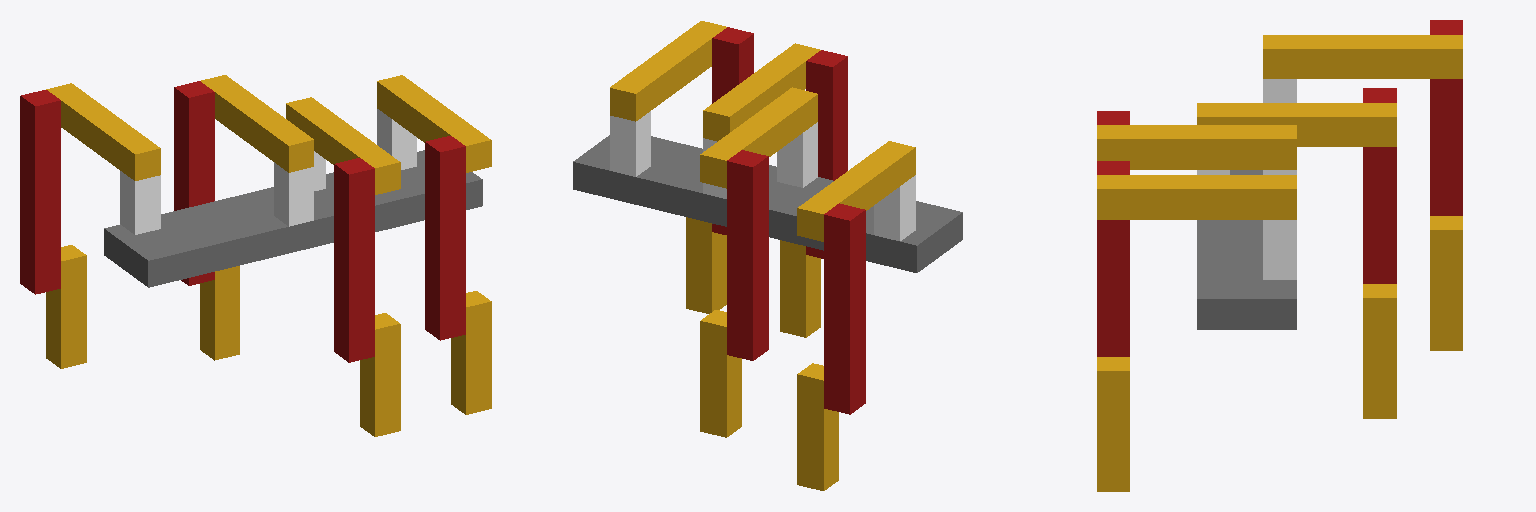
URDF robot description (v0):
<?xml version="1.0" encoding="utf-8"?>
<!-- =================================================================================== -->
<!-- |    This document was autogenerated by xacro from ../robots/v0variants/xacros/v0_4l_15.xacro | -->
<!-- |    EDITING THIS FILE BY HAND IS NOT RECOMMENDED                                 | -->
<!-- =================================================================================== -->
<robot name="v0">
  <material name="grey">
    <color rgba="0.5 0.5 0.5 1"/>
  </material>
  <material name="white">
    <color rgba="1 1 1 1"/>
  </material>
  <material name="yellow">
    <color rgba="0.91 0.7 0.14 1"/>
  </material>
  <material name="red">
    <color rgba="0.71 0.14 0.14 1"/>
  </material>
  <link name="body">
    <visual>
      <geometry>
        <box size="1.3 0.3 0.1"/>
      </geometry>
      <material name="grey"/>
      <origin rpy="0 0 0" xyz="0 0 0.7"/>
    </visual>
    <collision>
      <geometry>
        <box size="1.3 0.3 0.1"/>
      </geometry>
      <origin rpy="0 0 0" xyz="0 0 0.7"/>
    </collision>
    <inertial>
      <mass value="99.84"/>
      <inertia ixx="0.832" ixy="0.0" ixz="0.0" iyy="14.144" iyz="0.0" izz="14.8096"/>
    </inertial>
  </link>
  <link name="l1_segment_1">
    <visual>
      <geometry>
        <box size="0.1 0.1 0.2"/>
      </geometry>
      <material name="white"/>
      <origin rpy="0 0 0" xyz="0 0 0.1"/>
    </visual>
    <collision>
      <geometry>
        <box size="0.1 0.1 0.2"/>
      </geometry>
      <origin rpy="0 0 0" xyz="0 0 0.1"/>
    </collision>
    <inertial>
      <mass value="5.12"/>
      <inertia ixx="0.0213333333333" ixy="0.0" ixz="0.0" iyy="0.0213333333333" iyz="0.0" izz="0.00853333333333"/>
    </inertial>
  </link>
  <joint name="l1_base_to_joint_1" type="fixed">
    <parent link="body"/>
    <child link="l1_segment_1"/>
    <origin rpy="0 0 0" xyz="-0.5362677031886501 0.1 0.75"/>
  </joint>
  <link name="l1_segment_2_HIP">
    <visual>
      <geometry>
        <box size="0.1 0.6 0.1"/>
      </geometry>
      <material name="yellow"/>
      <origin rpy="0 0 0" xyz="0 0.25 0"/>
    </visual>
    <collision>
      <geometry>
        <box size="0.1 0.6 0.1"/>
      </geometry>
      <origin rpy="0 0 0" xyz="0 0.25 0"/>
    </collision>
    <inertial>
      <mass value="15.36"/>
      <inertia ixx="0.4736" ixy="0.0" ixz="0.0" iyy="0.0256" iyz="0.0" izz="0.4736"/>
    </inertial>
  </link>
  <joint name="l1_joint_1_to_2" type="revolute">
    <parent link="l1_segment_1"/>
    <child link="l1_segment_2_HIP"/>
    <origin rpy="0 0 0" xyz="0 0 0.25"/>
    <axis xyz="0.0 0.0 1.0"/>
    <limit effort="2048" lower="-1.2" upper="1.2" velocity="20"/>
  </joint>
  <link name="l1_segment_3_THIGH">
    <visual>
      <geometry>
        <box size="0.1 0.1 0.7"/>
      </geometry>
      <material name="red"/>
      <origin rpy="0 0 0" xyz="0 0 -0.3"/>
    </visual>
    <collision>
      <geometry>
        <box size="0.1 0.1 0.7"/>
      </geometry>
      <origin rpy="0 0 0" xyz="0 0 -0.3"/>
    </collision>
    <inertial>
      <mass value="17.92"/>
      <inertia ixx="0.746666666667" ixy="0.0" ixz="0.0" iyy="0.746666666667" iyz="0.0" izz="0.0298666666667"/>
    </inertial>
  </link>
  <joint name="l1_joint_2_to_3" type="revolute">
    <parent link="l1_segment_2_HIP"/>
    <child link="l1_segment_3_THIGH"/>
    <origin rpy="0 0 0" xyz="-0.1 0.5 0"/>
    <axis xyz="1.0 0.0 0.0"/>
    <limit effort="2048" lower="-0.2" upper="0.75" velocity="20"/>
  </joint>
  <link name="l1_segment_4_FOOT">
    <visual>
      <geometry>
        <box size="0.1 0.1 0.4"/>
      </geometry>
      <material name="yellow"/>
      <origin rpy="0 0 0" xyz="0 0 -0.2"/>
    </visual>
    <collision>
      <geometry>
        <box size="0.1 0.1 0.4"/>
      </geometry>
      <origin rpy="0 0 0" xyz="0 0 -0.2"/>
    </collision>
    <inertial>
      <mass value="10.24"/>
      <inertia ixx="0.145066666667" ixy="0.0" ixz="0.0" iyy="0.145066666667" iyz="0.0" izz="0.0170666666667"/>
    </inertial>
  </link>
  <joint name="l1_joint_3_to_4_FOOT" type="revolute">
    <parent link="l1_segment_3_THIGH"/>
    <child link="l1_segment_4_FOOT"/>
    <origin rpy="0 0 0" xyz="0.1 0 -0.55"/>
    <axis xyz="1.0 0.0 0.0"/>
    <limit effort="2048" lower="-0.2" upper="0.5" velocity="20"/>
  </joint>
  <link name="r2_segment_1">
    <visual>
      <geometry>
        <box size="0.1 0.1 0.2"/>
      </geometry>
      <material name="white"/>
      <origin rpy="0 0 0" xyz="0 0 0.1"/>
    </visual>
    <collision>
      <geometry>
        <box size="0.1 0.1 0.2"/>
      </geometry>
      <origin rpy="0 0 0" xyz="0 0 0.1"/>
    </collision>
    <inertial>
      <mass value="5.12"/>
      <inertia ixx="0.0213333333333" ixy="0.0" ixz="0.0" iyy="0.0213333333333" iyz="0.0" izz="0.00853333333333"/>
    </inertial>
  </link>
  <joint name="r2_base_to_joint_1" type="fixed">
    <parent link="body"/>
    <child link="r2_segment_1"/>
    <origin rpy="0 0 0" xyz="0.107769492349686 0.1 0.75"/>
  </joint>
  <link name="r2_segment_2_HIP">
    <visual>
      <geometry>
        <box size="0.1 0.6 0.1"/>
      </geometry>
      <material name="yellow"/>
      <origin rpy="0 0 0" xyz="0 -0.25 0"/>
    </visual>
    <collision>
      <geometry>
        <box size="0.1 0.6 0.1"/>
      </geometry>
      <origin rpy="0 0 0" xyz="0 -0.25 0"/>
    </collision>
    <inertial>
      <mass value="15.36"/>
      <inertia ixx="0.4736" ixy="0.0" ixz="0.0" iyy="0.0256" iyz="0.0" izz="0.4736"/>
    </inertial>
  </link>
  <joint name="r2_joint_1_to_2" type="revolute">
    <parent link="r2_segment_1"/>
    <child link="r2_segment_2_HIP"/>
    <origin rpy="0 0 0" xyz="0 0 0.25"/>
    <axis xyz="0.0 0.0 1.0"/>
    <limit effort="2048" lower="-1.2" upper="1.2" velocity="20"/>
  </joint>
  <link name="r2_segment_3_THIGH">
    <visual>
      <geometry>
        <box size="0.1 0.1 0.7"/>
      </geometry>
      <material name="red"/>
      <origin rpy="0 0 0" xyz="0 0 -0.3"/>
    </visual>
    <collision>
      <geometry>
        <box size="0.1 0.1 0.7"/>
      </geometry>
      <origin rpy="0 0 0" xyz="0 0 -0.3"/>
    </collision>
    <inertial>
      <mass value="17.92"/>
      <inertia ixx="0.746666666667" ixy="0.0" ixz="0.0" iyy="0.746666666667" iyz="0.0" izz="0.0298666666667"/>
    </inertial>
  </link>
  <joint name="r2_joint_2_to_3" type="revolute">
    <parent link="r2_segment_2_HIP"/>
    <child link="r2_segment_3_THIGH"/>
    <origin rpy="0 0 0" xyz="-0.1 -0.5 0"/>
    <axis xyz="1.0 0.0 0.0"/>
    <limit effort="2048" lower="-0.75" upper="0.2" velocity="20"/>
  </joint>
  <link name="r2_segment_4_FOOT">
    <visual>
      <geometry>
        <box size="0.1 0.1 0.4"/>
      </geometry>
      <material name="yellow"/>
      <origin rpy="0 0 0" xyz="0 0 -0.2"/>
    </visual>
    <collision>
      <geometry>
        <box size="0.1 0.1 0.4"/>
      </geometry>
      <origin rpy="0 0 0" xyz="0 0 -0.2"/>
    </collision>
    <inertial>
      <mass value="10.24"/>
      <inertia ixx="0.145066666667" ixy="0.0" ixz="0.0" iyy="0.145066666667" iyz="0.0" izz="0.0170666666667"/>
    </inertial>
  </link>
  <joint name="r2_joint_3_to_4_FOOT" type="revolute">
    <parent link="r2_segment_3_THIGH"/>
    <child link="r2_segment_4_FOOT"/>
    <origin rpy="0 0 0" xyz="0.1 0 -0.55"/>
    <axis xyz="1.0 0.0 0.0"/>
    <limit effort="2048" lower="-0.5" upper="0.2" velocity="20"/>
  </joint>
  <link name="l3_segment_1">
    <visual>
      <geometry>
        <box size="0.1 0.1 0.2"/>
      </geometry>
      <material name="white"/>
      <origin rpy="0 0 0" xyz="0 0 0.1"/>
    </visual>
    <collision>
      <geometry>
        <box size="0.1 0.1 0.2"/>
      </geometry>
      <origin rpy="0 0 0" xyz="0 0 0.1"/>
    </collision>
    <inertial>
      <mass value="5.12"/>
      <inertia ixx="0.0213333333333" ixy="0.0" ixz="0.0" iyy="0.0213333333333" iyz="0.0" izz="0.00853333333333"/>
    </inertial>
  </link>
  <joint name="l3_base_to_joint_1" type="fixed">
    <parent link="body"/>
    <child link="l3_segment_1"/>
    <origin rpy="0 0 0" xyz="-0.05401374932247005 -0.1 0.75"/>
  </joint>
  <link name="l3_segment_2_HIP">
    <visual>
      <geometry>
        <box size="0.1 0.6 0.1"/>
      </geometry>
      <material name="yellow"/>
      <origin rpy="0 0 0" xyz="0 0.25 0"/>
    </visual>
    <collision>
      <geometry>
        <box size="0.1 0.6 0.1"/>
      </geometry>
      <origin rpy="0 0 0" xyz="0 0.25 0"/>
    </collision>
    <inertial>
      <mass value="15.36"/>
      <inertia ixx="0.4736" ixy="0.0" ixz="0.0" iyy="0.0256" iyz="0.0" izz="0.4736"/>
    </inertial>
  </link>
  <joint name="l3_joint_1_to_2" type="revolute">
    <parent link="l3_segment_1"/>
    <child link="l3_segment_2_HIP"/>
    <origin rpy="0 0 0" xyz="0 0 0.25"/>
    <axis xyz="0.0 0.0 1.0"/>
    <limit effort="2048" lower="-1.2" upper="1.2" velocity="20"/>
  </joint>
  <link name="l3_segment_3_THIGH">
    <visual>
      <geometry>
        <box size="0.1 0.1 0.7"/>
      </geometry>
      <material name="red"/>
      <origin rpy="0 0 0" xyz="0 0 -0.3"/>
    </visual>
    <collision>
      <geometry>
        <box size="0.1 0.1 0.7"/>
      </geometry>
      <origin rpy="0 0 0" xyz="0 0 -0.3"/>
    </collision>
    <inertial>
      <mass value="17.92"/>
      <inertia ixx="0.746666666667" ixy="0.0" ixz="0.0" iyy="0.746666666667" iyz="0.0" izz="0.0298666666667"/>
    </inertial>
  </link>
  <joint name="l3_joint_2_to_3" type="revolute">
    <parent link="l3_segment_2_HIP"/>
    <child link="l3_segment_3_THIGH"/>
    <origin rpy="0 0 0" xyz="-0.1 0.5 0"/>
    <axis xyz="1.0 0.0 0.0"/>
    <limit effort="2048" lower="-0.2" upper="0.75" velocity="20"/>
  </joint>
  <link name="l3_segment_4_FOOT">
    <visual>
      <geometry>
        <box size="0.1 0.1 0.4"/>
      </geometry>
      <material name="yellow"/>
      <origin rpy="0 0 0" xyz="0 0 -0.2"/>
    </visual>
    <collision>
      <geometry>
        <box size="0.1 0.1 0.4"/>
      </geometry>
      <origin rpy="0 0 0" xyz="0 0 -0.2"/>
    </collision>
    <inertial>
      <mass value="10.24"/>
      <inertia ixx="0.145066666667" ixy="0.0" ixz="0.0" iyy="0.145066666667" iyz="0.0" izz="0.0170666666667"/>
    </inertial>
  </link>
  <joint name="l3_joint_3_to_4_FOOT" type="revolute">
    <parent link="l3_segment_3_THIGH"/>
    <child link="l3_segment_4_FOOT"/>
    <origin rpy="0 0 0" xyz="0.1 0 -0.55"/>
    <axis xyz="1.0 0.0 0.0"/>
    <limit effort="2048" lower="-0.2" upper="0.5" velocity="20"/>
  </joint>
  <link name="r4_segment_1">
    <visual>
      <geometry>
        <box size="0.1 0.1 0.2"/>
      </geometry>
      <material name="white"/>
      <origin rpy="0 0 0" xyz="0 0 0.1"/>
    </visual>
    <collision>
      <geometry>
        <box size="0.1 0.1 0.2"/>
      </geometry>
      <origin rpy="0 0 0" xyz="0 0 0.1"/>
    </collision>
    <inertial>
      <mass value="5.12"/>
      <inertia ixx="0.0213333333333" ixy="0.0" ixz="0.0" iyy="0.0213333333333" iyz="0.0" izz="0.00853333333333"/>
    </inertial>
  </link>
  <joint name="r4_base_to_joint_1" type="fixed">
    <parent link="body"/>
    <child link="r4_segment_1"/>
    <origin rpy="0 0 0" xyz="0.4618256658895 0.1 0.75"/>
  </joint>
  <link name="r4_segment_2_HIP">
    <visual>
      <geometry>
        <box size="0.1 0.6 0.1"/>
      </geometry>
      <material name="yellow"/>
      <origin rpy="0 0 0" xyz="0 -0.25 0"/>
    </visual>
    <collision>
      <geometry>
        <box size="0.1 0.6 0.1"/>
      </geometry>
      <origin rpy="0 0 0" xyz="0 -0.25 0"/>
    </collision>
    <inertial>
      <mass value="15.36"/>
      <inertia ixx="0.4736" ixy="0.0" ixz="0.0" iyy="0.0256" iyz="0.0" izz="0.4736"/>
    </inertial>
  </link>
  <joint name="r4_joint_1_to_2" type="revolute">
    <parent link="r4_segment_1"/>
    <child link="r4_segment_2_HIP"/>
    <origin rpy="0 0 0" xyz="0 0 0.25"/>
    <axis xyz="0.0 0.0 1.0"/>
    <limit effort="2048" lower="-1.2" upper="1.2" velocity="20"/>
  </joint>
  <link name="r4_segment_3_THIGH">
    <visual>
      <geometry>
        <box size="0.1 0.1 0.7"/>
      </geometry>
      <material name="red"/>
      <origin rpy="0 0 0" xyz="0 0 -0.3"/>
    </visual>
    <collision>
      <geometry>
        <box size="0.1 0.1 0.7"/>
      </geometry>
      <origin rpy="0 0 0" xyz="0 0 -0.3"/>
    </collision>
    <inertial>
      <mass value="17.92"/>
      <inertia ixx="0.746666666667" ixy="0.0" ixz="0.0" iyy="0.746666666667" iyz="0.0" izz="0.0298666666667"/>
    </inertial>
  </link>
  <joint name="r4_joint_2_to_3" type="revolute">
    <parent link="r4_segment_2_HIP"/>
    <child link="r4_segment_3_THIGH"/>
    <origin rpy="0 0 0" xyz="-0.1 -0.5 0"/>
    <axis xyz="1.0 0.0 0.0"/>
    <limit effort="2048" lower="-0.75" upper="0.2" velocity="20"/>
  </joint>
  <link name="r4_segment_4_FOOT">
    <visual>
      <geometry>
        <box size="0.1 0.1 0.4"/>
      </geometry>
      <material name="yellow"/>
      <origin rpy="0 0 0" xyz="0 0 -0.2"/>
    </visual>
    <collision>
      <geometry>
        <box size="0.1 0.1 0.4"/>
      </geometry>
      <origin rpy="0 0 0" xyz="0 0 -0.2"/>
    </collision>
    <inertial>
      <mass value="10.24"/>
      <inertia ixx="0.145066666667" ixy="0.0" ixz="0.0" iyy="0.145066666667" iyz="0.0" izz="0.0170666666667"/>
    </inertial>
  </link>
  <joint name="r4_joint_3_to_4_FOOT" type="revolute">
    <parent link="r4_segment_3_THIGH"/>
    <child link="r4_segment_4_FOOT"/>
    <origin rpy="0 0 0" xyz="0.1 0 -0.55"/>
    <axis xyz="1.0 0.0 0.0"/>
    <limit effort="2048" lower="-0.5" upper="0.2" velocity="20"/>
  </joint>
</robot>

--- Facts derived from the render (not from the file) ---
3 views of the same robot in one strip: view 1: azimuth 30°, elevation 25°; view 2: azimuth 150°, elevation 25°; view 3: azimuth 270°, elevation 25° (orthographic).
Robot: v0 — 17 links, 16 joints (12 revolute, 4 fixed); root link body; default pose: every joint at zero.
Visible links, largest first — view 1: body, l1_segment_3_THIGH, r2_segment_3_THIGH, r4_segment_3_THIGH, l3_segment_3_THIGH, l1_segment_2_HIP, l3_segment_2_HIP, r4_segment_2_HIP, r2_segment_2_HIP, r2_segment_4_FOOT, r4_segment_4_FOOT, l1_segment_4_FOOT (+4 smaller); view 2: body, l1_segment_3_THIGH, l3_segment_3_THIGH, r4_segment_2_HIP, l1_segment_2_HIP, l3_segment_2_HIP, l1_segment_4_FOOT, l3_segment_4_FOOT, r2_segment_2_HIP, r2_segment_3_THIGH, r2_segment_4_FOOT, r4_segment_4_FOOT (+4 smaller); view 3: body, r4_segment_2_HIP, l1_segment_2_HIP, r2_segment_2_HIP, l3_segment_2_HIP, l3_segment_3_THIGH, l1_segment_3_THIGH, r4_segment_3_THIGH, l3_segment_4_FOOT, l1_segment_4_FOOT, r4_segment_4_FOOT, r4_segment_1 (+1 smaller).
Link boxes in pixels (x1,y1,x2,y2): body: (104, 150, 482, 287); l1_segment_3_THIGH: (20, 90, 60, 294); r2_segment_3_THIGH: (334, 158, 374, 362); r4_segment_3_THIGH: (425, 136, 465, 340); l3_segment_3_THIGH: (174, 81, 214, 285); l1_segment_2_HIP: (46, 83, 160, 180); l3_segment_2_HIP: (201, 75, 313, 172); r4_segment_2_HIP: (377, 75, 491, 172); r2_segment_2_HIP: (286, 97, 400, 194); r2_segment_4_FOOT: (360, 313, 400, 436); r4_segment_4_FOOT: (451, 291, 491, 414); l1_segment_4_FOOT: (46, 245, 86, 368); body: (573, 135, 962, 272); l1_segment_3_THIGH: (824, 203, 865, 414); l3_segment_3_THIGH: (727, 150, 768, 360); r4_segment_2_HIP: (610, 21, 726, 121); l1_segment_2_HIP: (797, 141, 915, 241); l3_segment_2_HIP: (700, 87, 817, 188); l1_segment_4_FOOT: (797, 363, 838, 490); l3_segment_4_FOOT: (700, 310, 741, 437); r2_segment_2_HIP: (703, 43, 820, 141); r2_segment_3_THIGH: (806, 50, 847, 258); r2_segment_4_FOOT: (780, 240, 820, 337); r4_segment_4_FOOT: (686, 217, 726, 313); body: (1197, 170, 1296, 329); r4_segment_2_HIP: (1097, 175, 1296, 219); l1_segment_2_HIP: (1263, 35, 1462, 78); r2_segment_2_HIP: (1097, 125, 1296, 169); l3_segment_2_HIP: (1197, 103, 1396, 146); l3_segment_3_THIGH: (1363, 88, 1396, 283); l1_segment_3_THIGH: (1430, 20, 1462, 215); r4_segment_3_THIGH: (1097, 161, 1129, 356); l3_segment_4_FOOT: (1363, 284, 1396, 418); l1_segment_4_FOOT: (1430, 216, 1462, 350); r4_segment_4_FOOT: (1097, 357, 1129, 491); r4_segment_1: (1263, 220, 1296, 279).
Bounding box of the posed robot: 1.34 × 1.1 × 1 m (x, y, z).
Geometry: primitives only (box / cylinder / sphere), no mesh files.